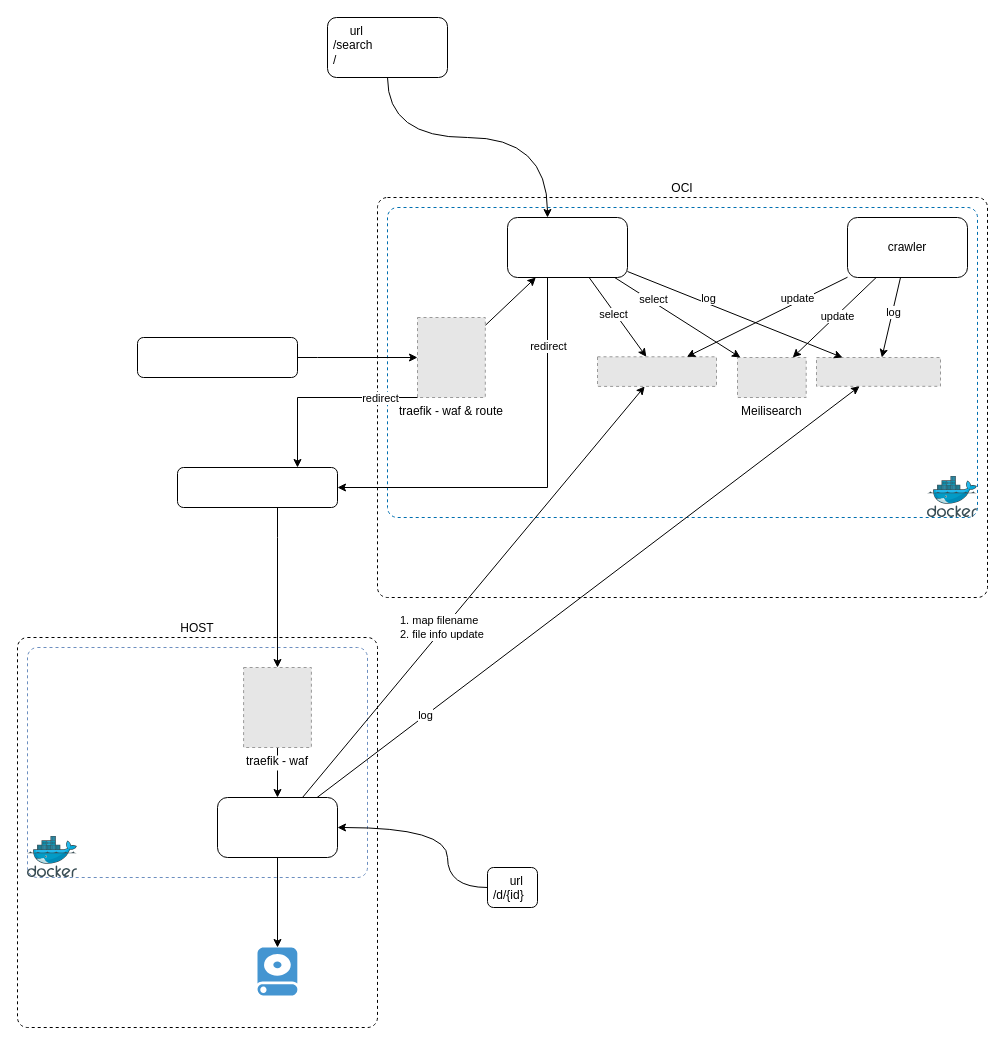
Image size: 1005x1045. Some labels were removed from this diagram. Grey dashed boxes stand in for pictures. Here are the shapes that lost their labels. From the top down, the centre of each, then its label:
(567,247): search-api
(217,357): api.nerinyan.moe/**
(257,487): dl1.nerinyan.moe/??
(277,827): download-api
